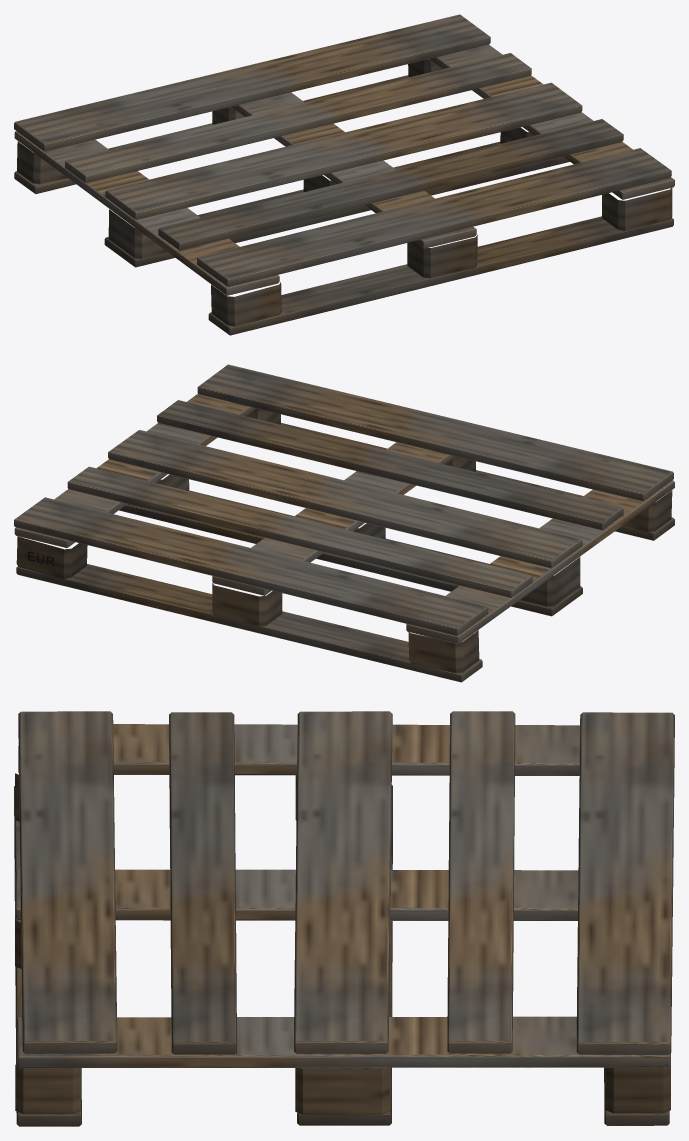
Rendered from pallet.glb.
3 views of the same model, one above another, from view 1: azimuth 30°, elevation 25°; view 2: azimuth 150°, elevation 25°; view 3: azimuth 270°, elevation 25° (orthographic). The views are drawn at different scales.
Visible parts, largest first — view 1: pallet; view 2: pallet; view 3: pallet.
Part boxes in pixels (x1,y1,x2,y2): pallet: (14,14,674,335); pallet: (14,364,674,682); pallet: (14,711,674,1126).
Size of the model in its own units: 1.21 by 0.1442 by 1.01.
2 materials, 2 textured.
